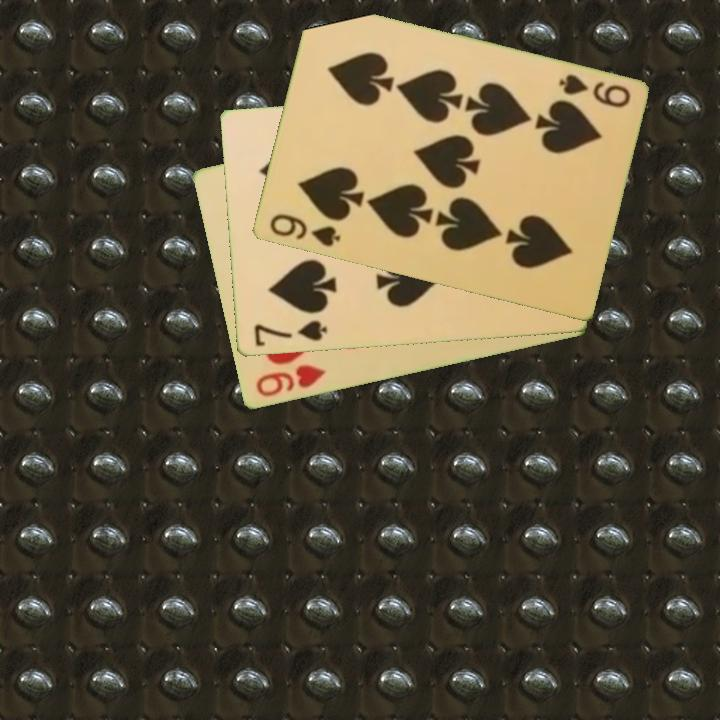7s: (250, 317, 330, 350)
9h: (252, 361, 328, 400)
9s: (554, 70, 633, 111), (265, 210, 343, 250)
